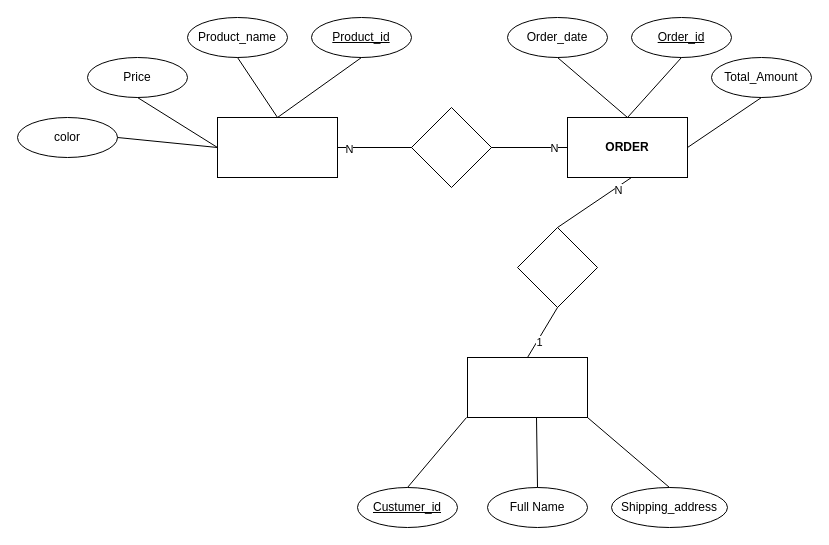
The diagram is 829 pixels wide and 545 high, and some of its shapes have lost their labels. The box of each missing label's shape, as (x1, y1, x2, y2) in pixels:
CUSTOMER: (466, 356, 588, 418)
INCLUES: (410, 106, 492, 188)
PLACES: (516, 226, 598, 308)
PRODUCT: (216, 116, 338, 178)
